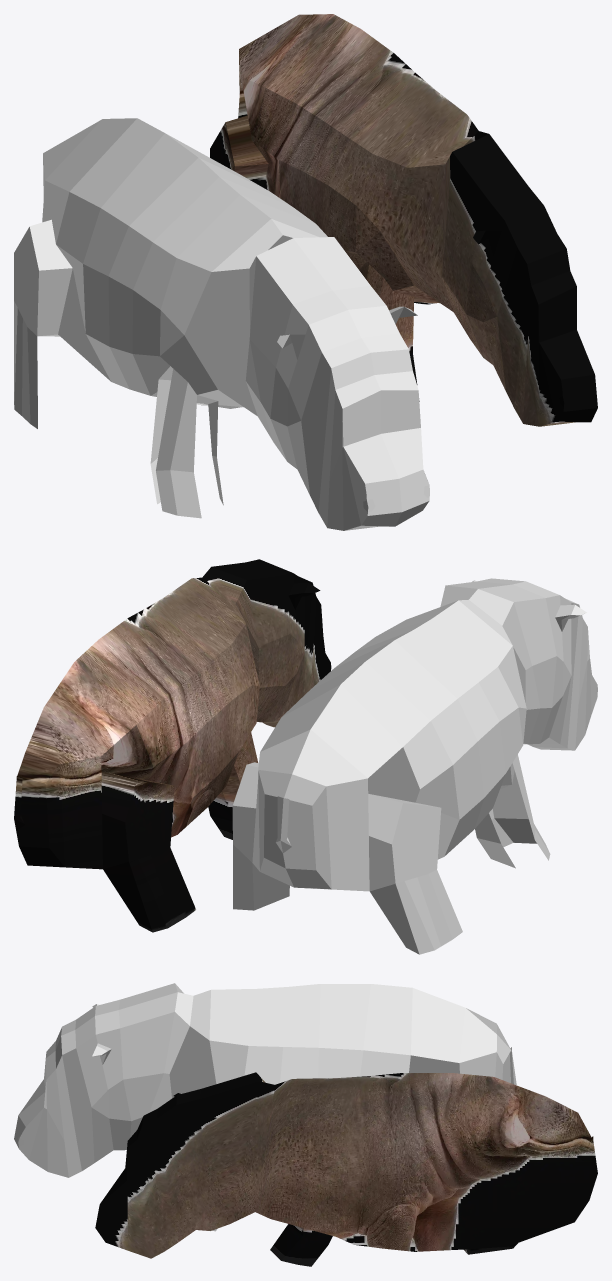
The model's file is hippoo_colors.glb.
The picture shows the model from 3 angles, top to bottom: view 1: azimuth 30°, elevation 25°; view 2: azimuth 150°, elevation 25°; view 3: azimuth 270°, elevation 25°; orthographic projection. The views are drawn at different scales.
Parts seen in each view (by area): view 1: Plane, Hippo; view 2: Plane, Hippo; view 3: Hippo, Plane.
Part boxes in pixels (x1,y1,x2,y2): Plane: [14, 118, 429, 530]; Hippo: [210, 14, 597, 426]; Plane: [232, 578, 597, 954]; Hippo: [14, 559, 331, 932]; Hippo: [95, 1072, 597, 1266]; Plane: [14, 983, 516, 1231].
Size of the model in its own units: 4.44 by 3.27 by 8.07.
2 materials, 2 textured.
